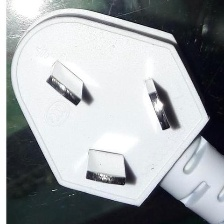three_eye_plug: (7, 5, 215, 213)
